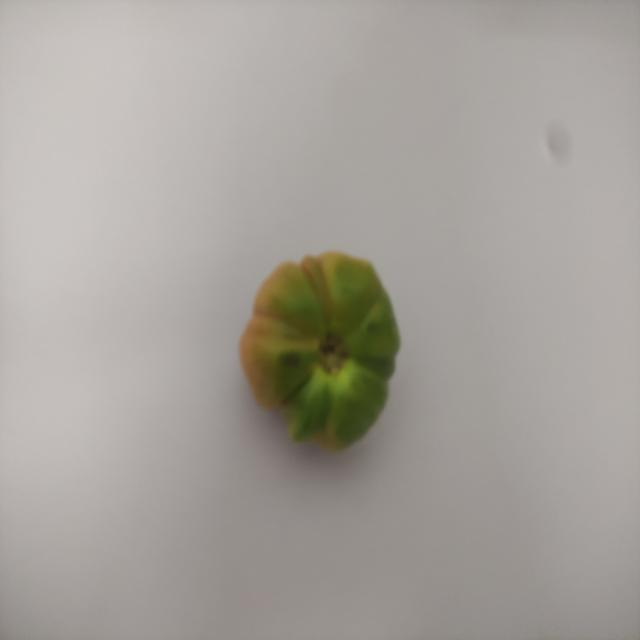yesil: (226, 215, 410, 460)
